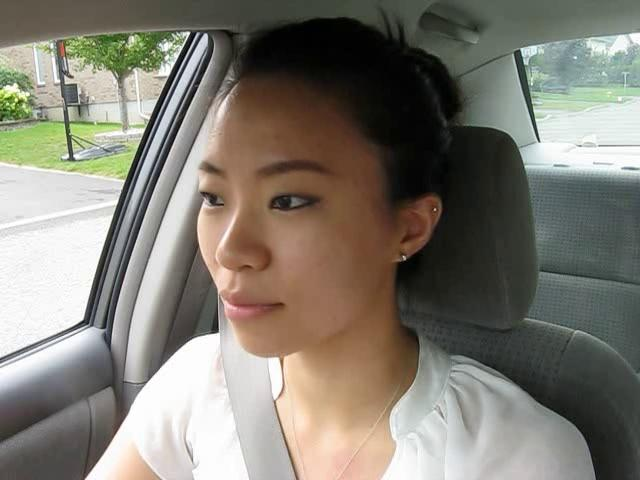no_yawn: (201, 276, 298, 333)
open_eyeL: (183, 178, 238, 223)
open_eyeR: (255, 179, 331, 226)
